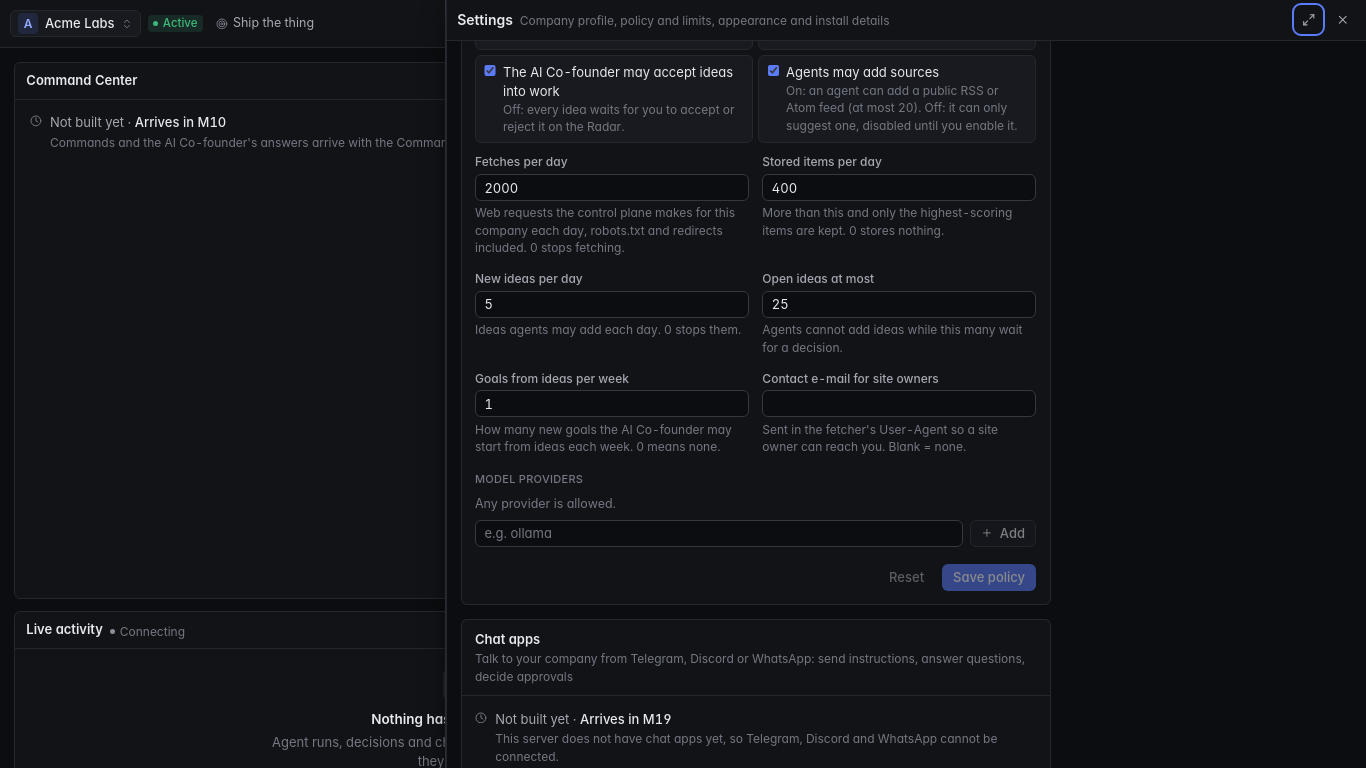
Test: Settings -> Policy: market radar group (Milestone 16) › refuses out-of-range numbers and a bad address before sending anything
This screenshot has width=1366, height=768.
(page scrolled)
Replace the text in the field labelled "Goals from ideas per week" with "50" at (612, 404), box [475,390,749,417]
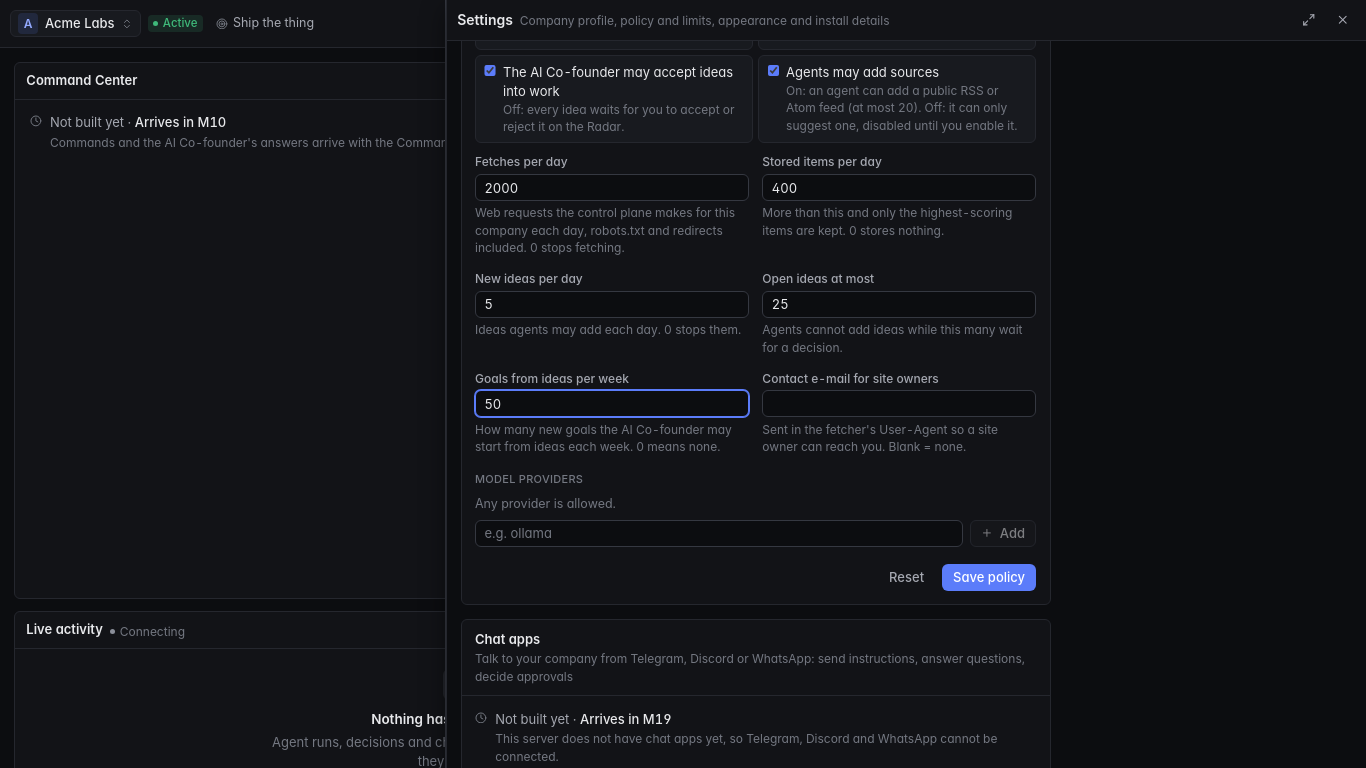
Type "not an address" into the field labelled "Contact e-mail for site owners".
click(899, 404); type("not an address")  # box [762,390,1036,417]
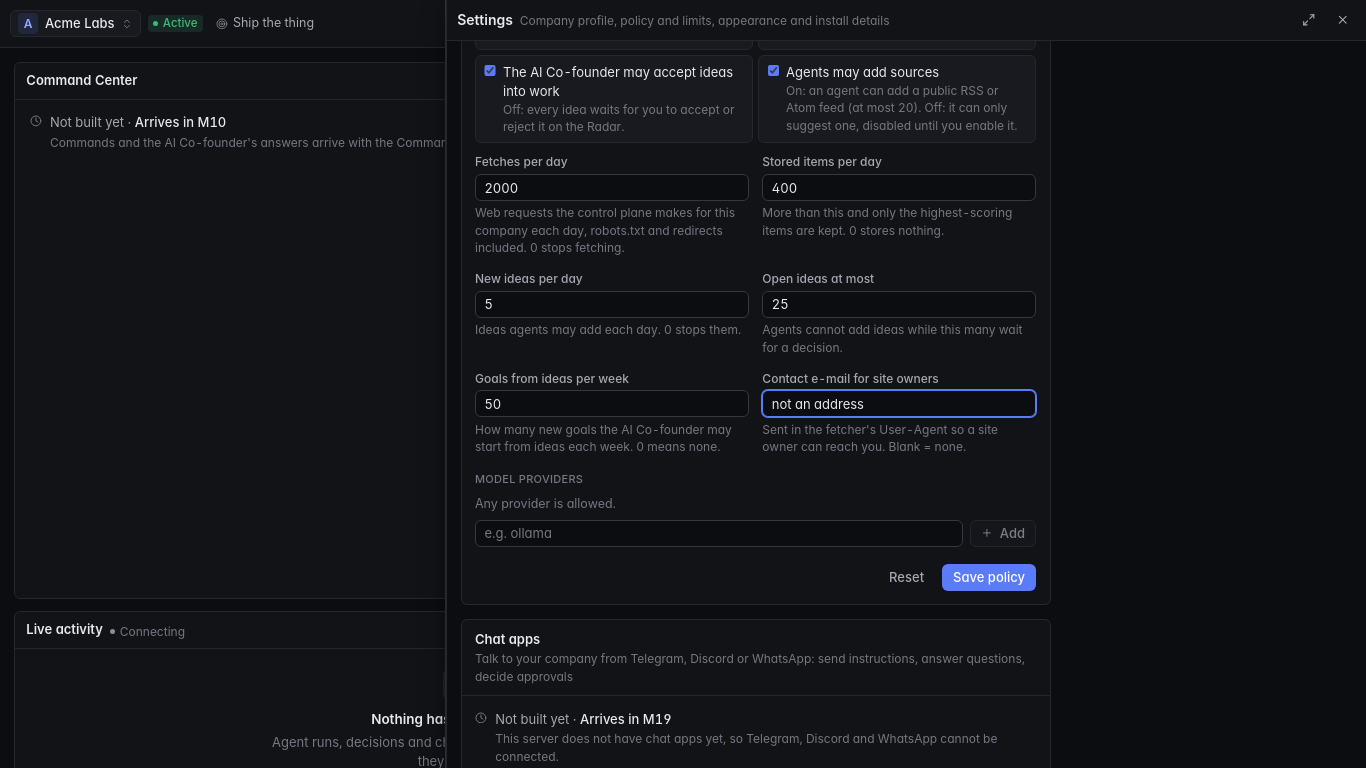
Click the button "Save policy".
click(989, 577)  # box [942,564,1036,591]
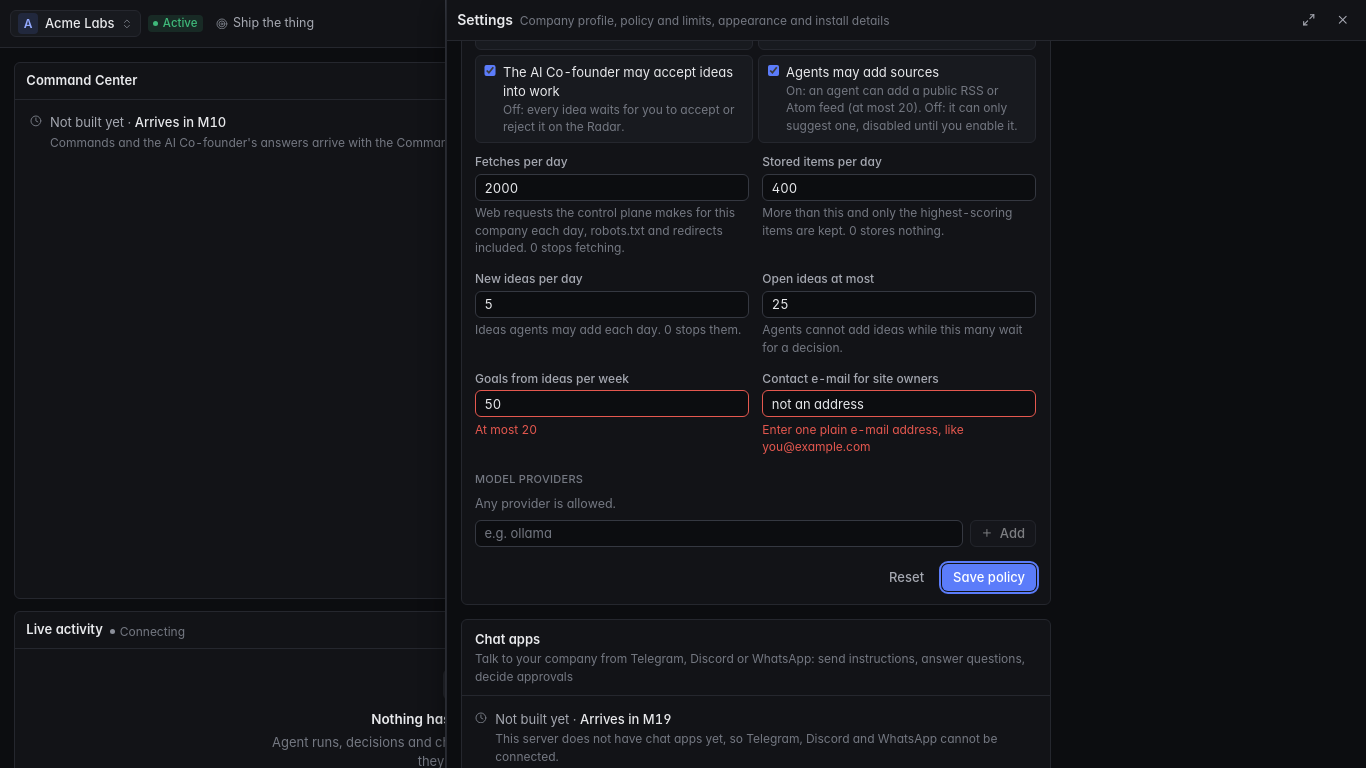
Expected: the text "At most 20" is shown, [475,422,537,437]
Expected: the text "Enter one plain e-mail address, like you@example.com" is shown, [762,422,964,454]
